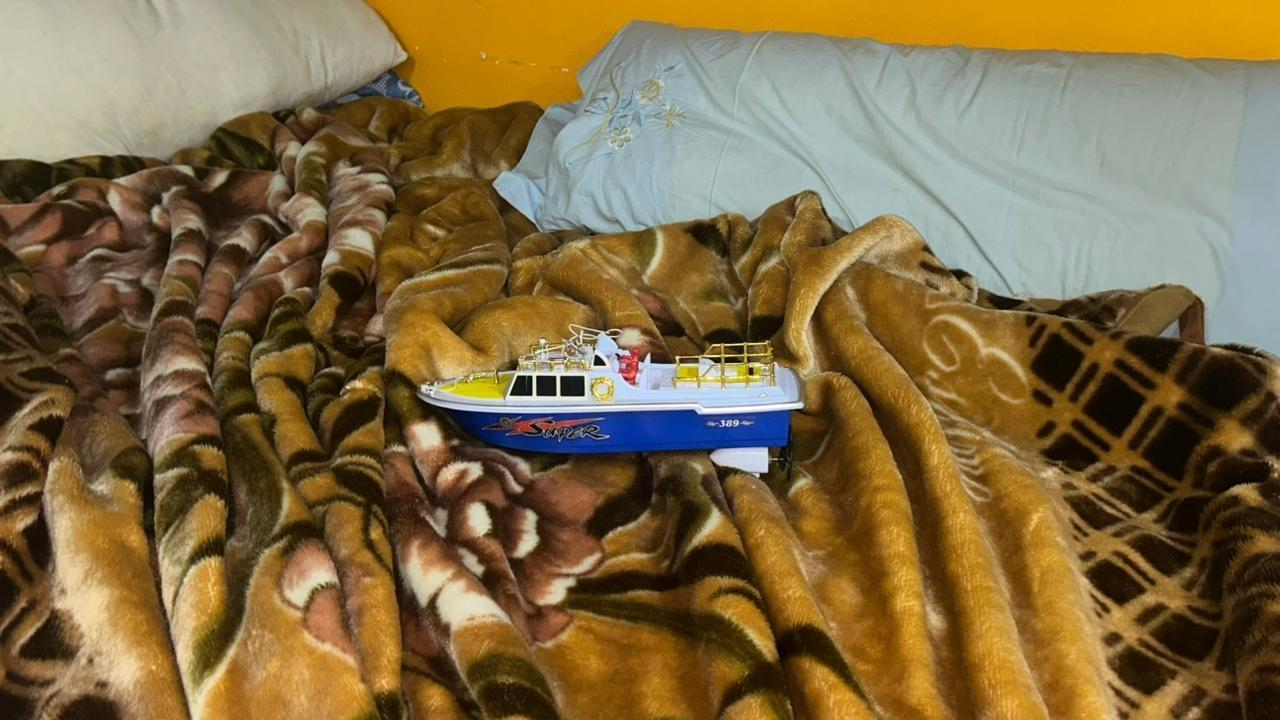Boat: (412, 322, 804, 480)
